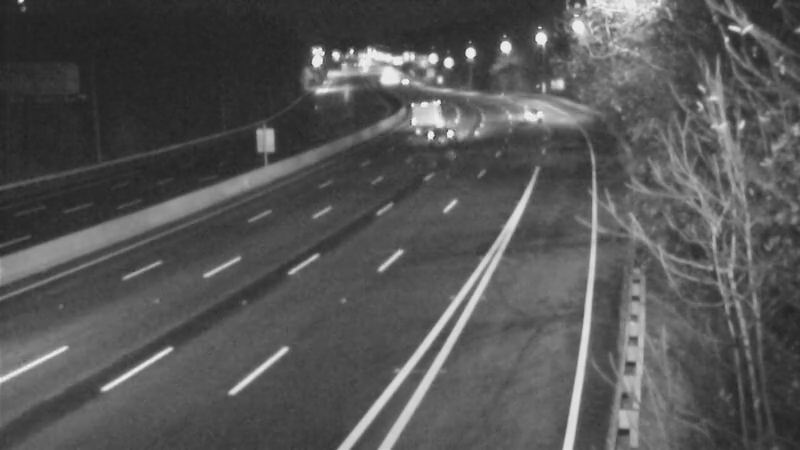vehicle: (499, 85, 549, 135), (402, 82, 452, 132), (413, 112, 463, 162)
